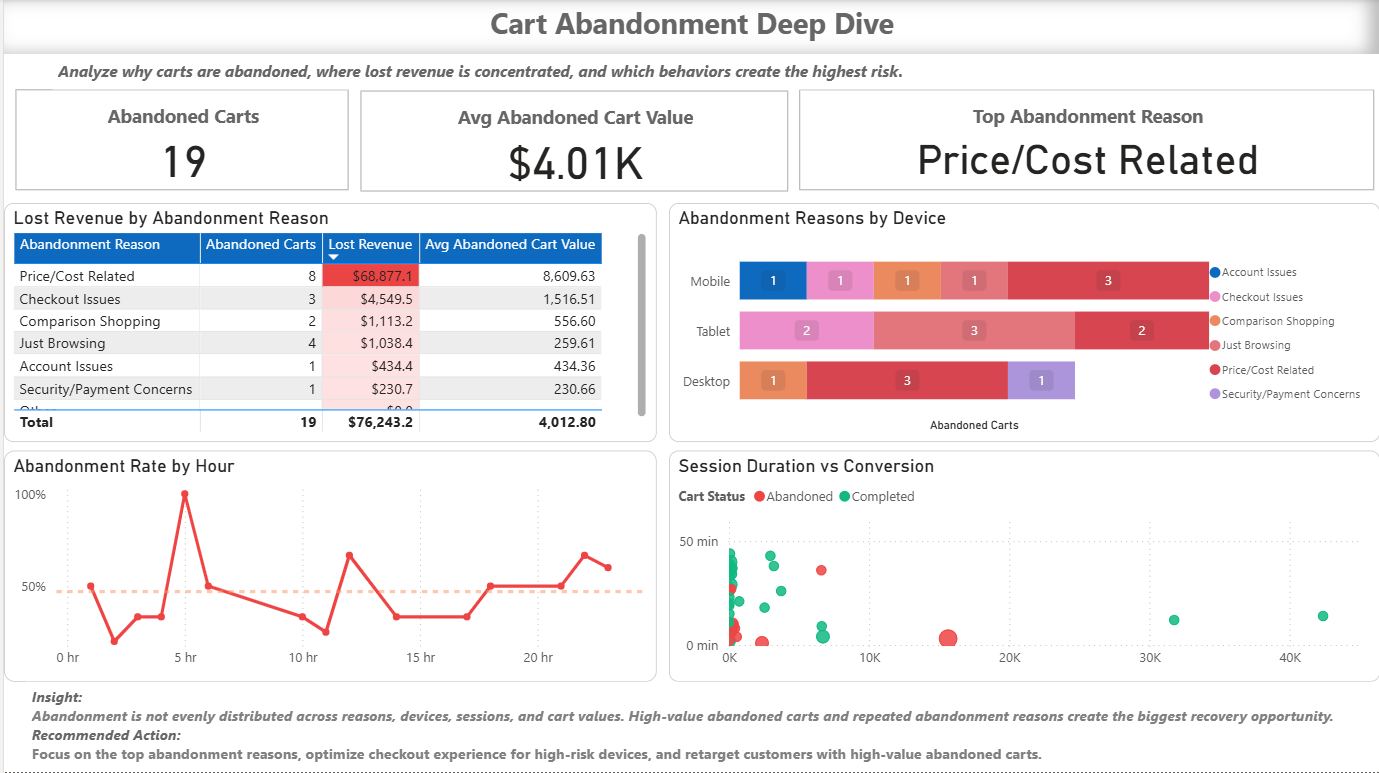

This screenshot's page, from the dashboard's own definition file:
{"tool":"powerbi","page":{"name":"🔴 Abandonment Analysis","canvas":[1280,720],"ordinal":1},"visuals":[{"type":"barChart","title":"Abandonment Reasons by Device","fields":{"Category":["CartData_Cleaned.device_type"],"Y":["CartData_Cleaned.Abandoned Carts"],"Series":["CartData_Cleaned.abandonment_category"]},"box":[626.7,175.6,653.5,245.3],"z":0},{"type":"lineChart","title":"Abandonment Rate by Hour of Day","fields":{"Category":["CartData_Cleaned.transaction_hour"],"Y":["CartData_Cleaned.Abandonment Rate"]},"box":[11.6,429.1,607,290.7],"z":1000},{"type":"scatterChart","title":"Cart Value vs Session Duration (by Completion Status)","fields":{"X":["Sum(CartData_Cleaned.cart_value)"],"Y":["CartData_Cleaned.session_duration_minutes"],"Size":["Sum(CartData_Cleaned.total_products)"],"Series":["CartData_Cleaned.Cart Status"]},"box":[626.7,429.1,653.5,290.7],"z":2000},{"type":"cardVisual","fields":{"Data":["CartData_Cleaned.Abandoned Carts"]},"box":[5.8,69.8,320.9,105.8],"z":3000},{"type":"cardVisual","fields":{"Data":["Abandonment_Analysis.Avg Abandoned Cart Value"]},"box":[326.7,69.8,408.1,105.8],"z":4000},{"type":"cardVisual","fields":{"Data":["Abandonment_Analysis.Top Abandonment Reason"]},"box":[734.9,69.8,545.4,105.8],"z":5000},{"type":"tableEx","title":"Abandonment Reason Breakdown","fields":{"Values":["CartData_Cleaned.abandonment_category","CartData_Cleaned.Abandoned Carts","CartData_Cleaned.Lost Revenue","Abandonment_Analysis.Avg Abandoned Cart Value"]},"box":[11.6,175.6,607,245.3],"z":6000},{"type":"actionButton","box":[0,0,100,40],"z":7000},{"type":"textbox","box":[0,0,1280.2,61.6],"z":8000}]}

Visuals, with their boxes in screenshot pixels (x1, y1, x2, y2), scaled from the page's 1280x720 canvas onto the 1379x773 screenshot:
"Abandonment Reasons by Device" barChart: BBox(675, 189, 1378, 452)
"Abandonment Rate by Hour of Day" lineChart: BBox(12, 461, 666, 772)
"Cart Value vs Session Duration (by Completion Status)" scatterChart: BBox(675, 461, 1378, 772)
cardVisual - CartData_Cleaned.Abandoned Carts: BBox(6, 75, 352, 189)
cardVisual - Abandonment_Analysis.Avg Abandoned Cart Value: BBox(352, 75, 792, 189)
cardVisual - Abandonment_Analysis.Top Abandonment Reason: BBox(792, 75, 1378, 189)
"Abandonment Reason Breakdown" tableEx: BBox(12, 189, 666, 452)
actionButton: BBox(0, 0, 108, 43)
textbox: BBox(0, 0, 1378, 66)
